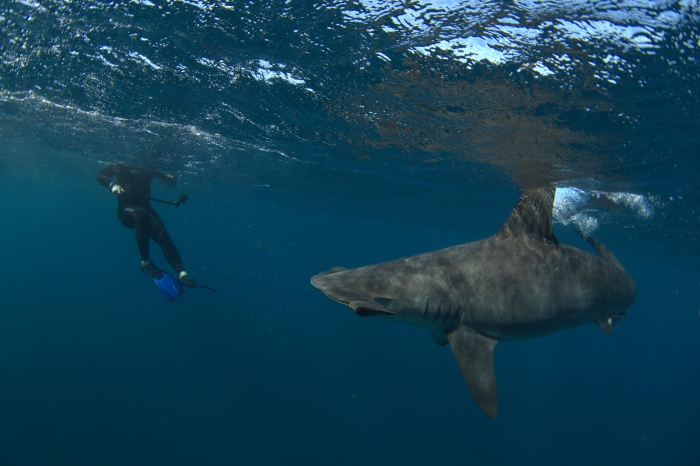Hammer: (302, 175, 657, 445)
